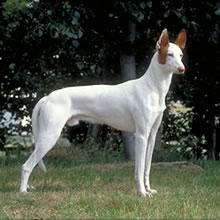Ibizan_hound: (17, 27, 189, 198)
